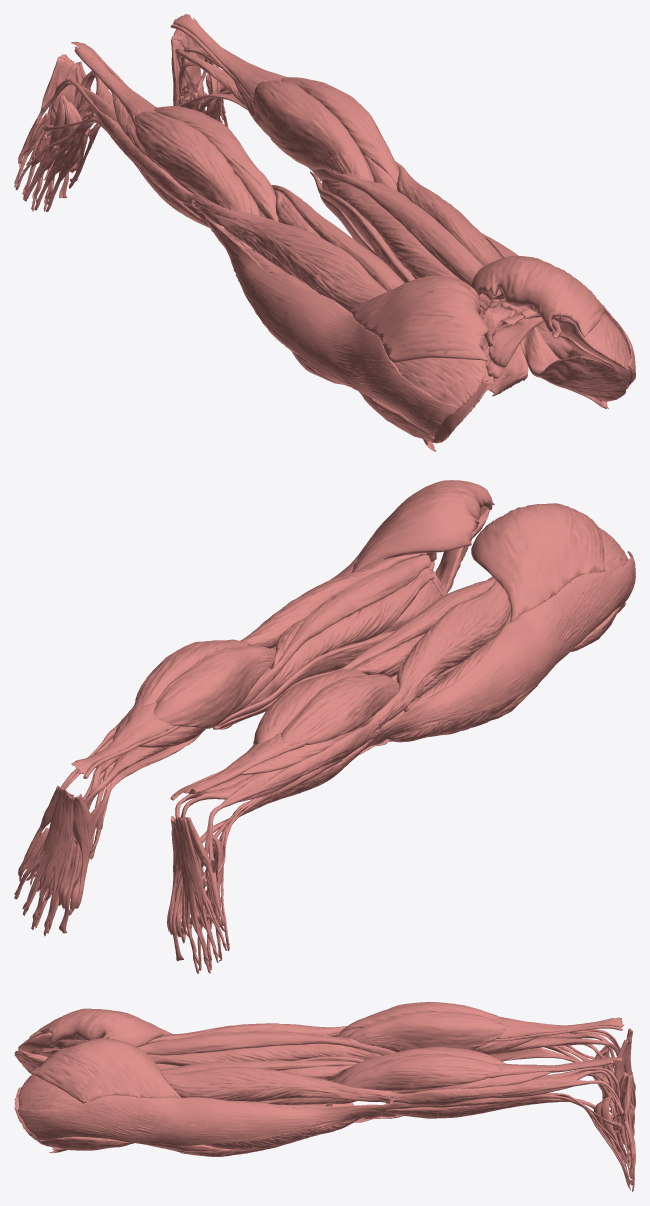
Rendered from lowerlimb__muscular.2d5b145dfd.glb.
3 renders of one model, top to bottom at view 1: azimuth 30°, elevation 25°; view 2: azimuth 150°, elevation 25°; view 3: azimuth 270°, elevation 25°, orthographic. The views are drawn at different scales.
Parts seen in each view (by area): view 1: FMA58776, FMA22328, FMA45888, FMA45958, FMA45960, FMA22329, FMA22359, FMA22449, FMA22323, FMA45957, FMA45961, FMA22330 (+27 smaller); view 2: FMA58776, FMA22328, FMA22329, FMA45888, FMA45958, FMA45960, FMA22449, FMA22359, FMA45889, FMA37462, FMA22552, FMA22358 (+23 smaller); view 3: FMA58777, FMA22329, FMA45889, FMA45957, FMA45961, FMA22358, FMA22328, FMA22448, FMA22553, FMA38931, FMA22545, FMA22549 (+26 smaller).
Boxes of the visible parts, x1,y1,x2,y2 form: FMA58776: (207, 218, 459, 436); FMA22328: (349, 275, 494, 363); FMA45888: (193, 195, 387, 311); FMA45958: (253, 80, 373, 181); FMA45960: (134, 111, 251, 213); FMA22329: (471, 256, 604, 337); FMA22359: (313, 168, 504, 300); FMA22449: (322, 173, 502, 311); FMA22323: (517, 313, 626, 401); FMA45957: (154, 106, 278, 221); FMA45961: (281, 77, 399, 184); FMA22330: (394, 357, 485, 430); FMA58776: (363, 551, 635, 750); FMA22328: (471, 503, 604, 621); FMA22329: (351, 480, 494, 572); FMA45888: (377, 580, 510, 729); FMA45958: (154, 645, 275, 728); FMA45960: (281, 674, 399, 745); FMA22449: (241, 568, 434, 709); FMA22359: (229, 554, 431, 715); FMA45889: (240, 553, 426, 648); FMA37462: (14, 788, 74, 929); FMA22552: (201, 712, 380, 867); FMA22358: (340, 576, 495, 670); FMA58777: (18, 1095, 394, 1145); FMA22329: (29, 1038, 180, 1103); FMA45889: (162, 1067, 391, 1103); FMA45957: (345, 1011, 506, 1052); FMA45961: (341, 1053, 500, 1090); FMA22358: (137, 1031, 395, 1055); FMA22328: (29, 1008, 172, 1047); FMA22448: (148, 1033, 381, 1066); FMA22553: (388, 1080, 621, 1120); FMA38931: (203, 1100, 398, 1149); FMA22545: (386, 1098, 611, 1118); FMA22549: (381, 1094, 631, 1190).
Bounding box in the file's own units: 312 × 233 × 965.
